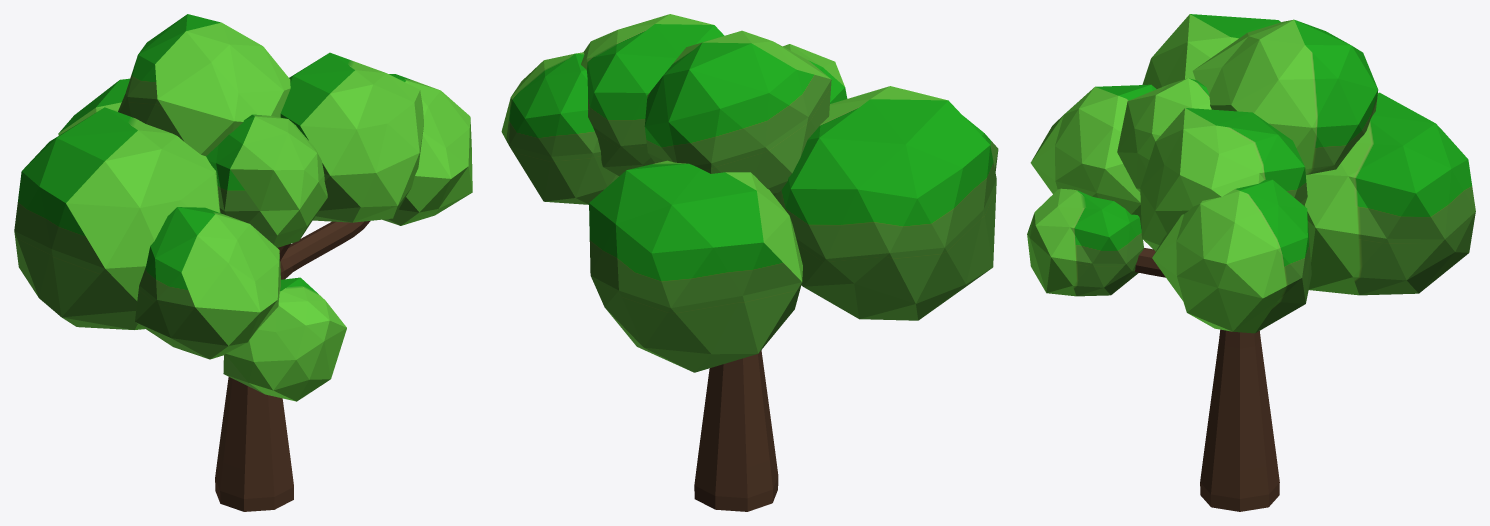
Rendered from tree4 02.fbx.
3 views of the same model, side by side, from view 1: azimuth 30°, elevation 25°; view 2: azimuth 150°, elevation 25°; view 3: azimuth 270°, elevation 25° (orthographic). The views are drawn at different scales.
Parts seen in each view (by area): view 1: Arbol1Hojas; view 2: Arbol1Hojas; view 3: Arbol1Hojas.
Boxes of the visible parts, x1=… form: Arbol1Hojas: x1=14, y1=14, x2=472, y2=511; Arbol1Hojas: x1=501, y1=14, x2=998, y2=511; Arbol1Hojas: x1=1027, y1=14, x2=1475, y2=511.
Bounding box in the file's own units: 939 × 962 × 851.
